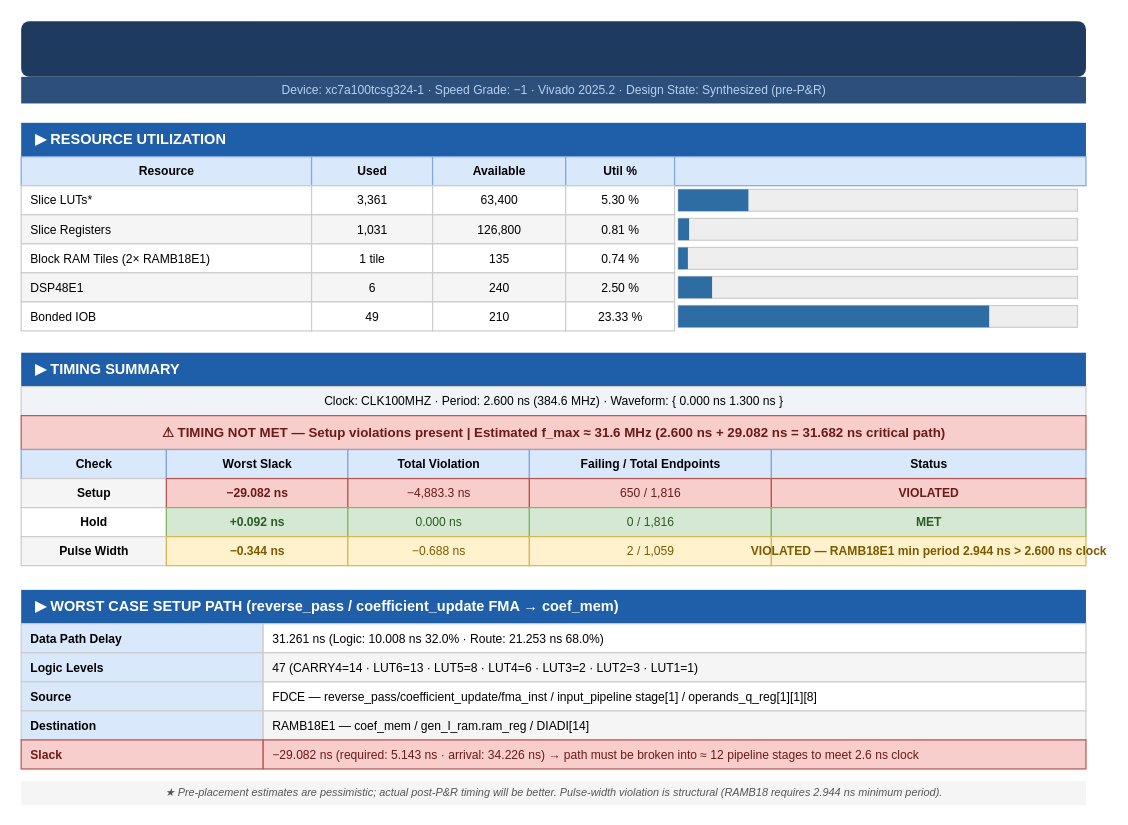
This 1128x825 diagram has some shape labels left out. Here are the shapes that lost their labels. From the top down, the box of each, then its label:
(21, 21, 1085, 76): FP16 — Polynomial Regression Synthesis Summary
(673, 155, 1086, 186): Usage Bar (full bar = 30 %)
